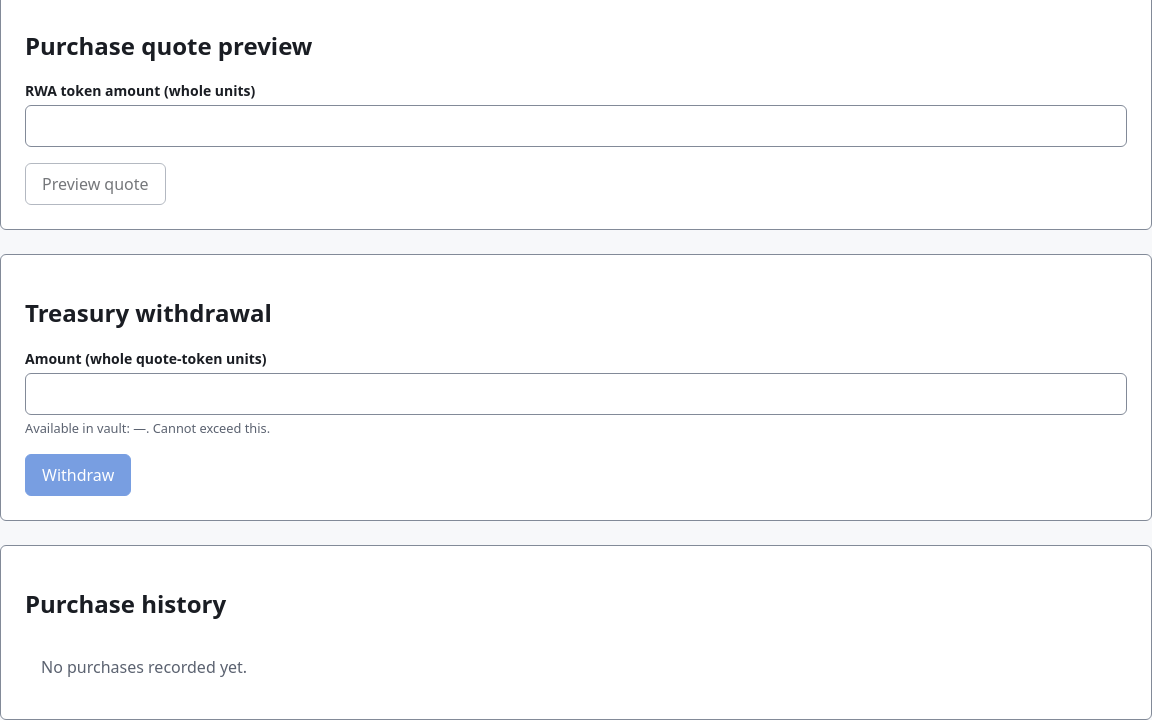
Test: InventorySales amount conversion › blocks a withdrawal that exceeds the vault's available quote balance
(page scrolled)
Step 1. Type "10" into the field labelled "Amount (whole quote-token units)" → (576, 394), box left=25, top=373, right=1127, bottom=415
(page scrolled)
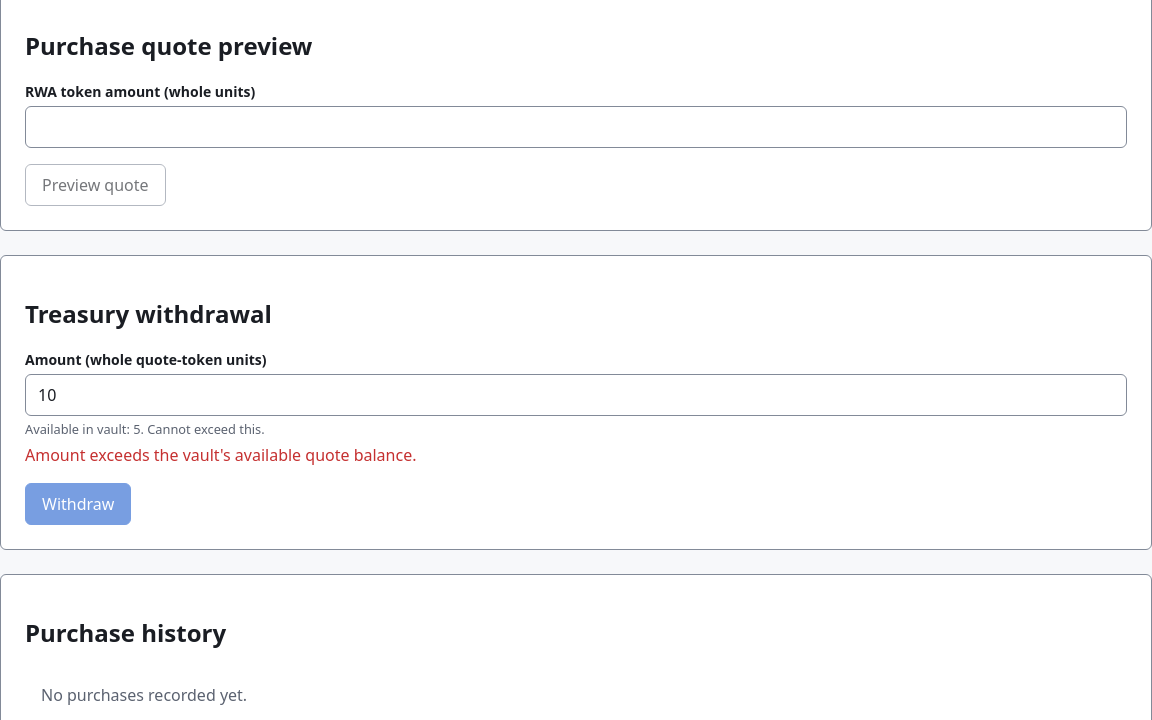
Check: the button "Withdraw" is disabled, box left=25, top=483, right=131, bottom=525
Check: the text "Amount exceeds the vault's available quote balance." is shown, box left=25, top=444, right=416, bottom=466
